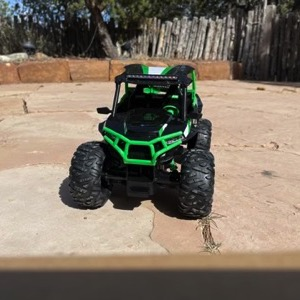polaris: (70, 63, 215, 220)
